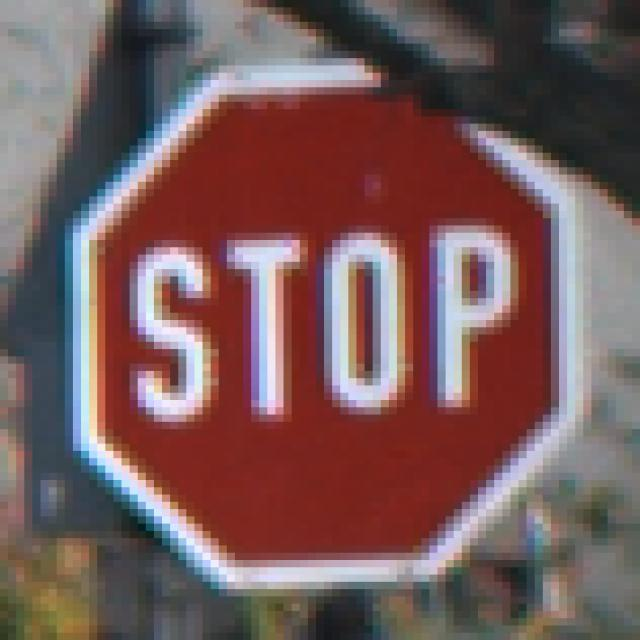STOP: (58, 59, 584, 590)
